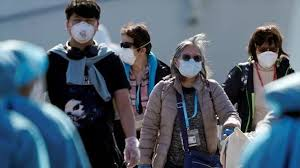with_mask: (63, 1, 101, 44), (118, 28, 154, 66), (175, 44, 208, 81), (252, 32, 283, 70)
